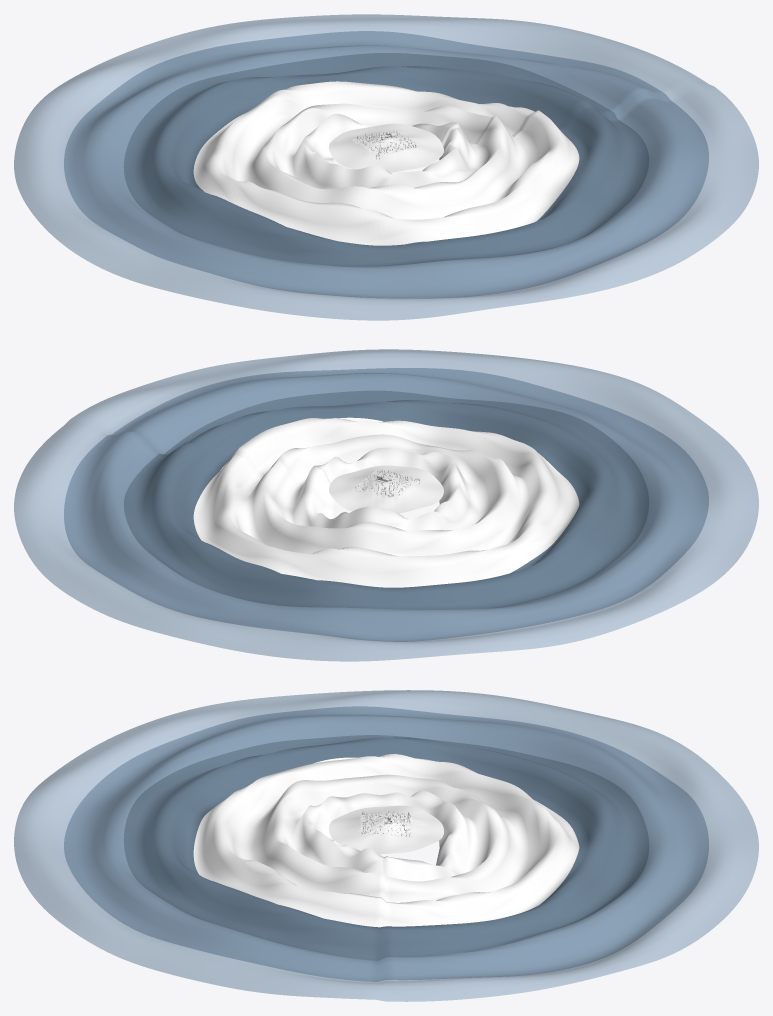
Rendered from dot-facility-web-v1.glb.
3 renders of one model, top to bottom at view 1: azimuth 30°, elevation 25°; view 2: azimuth 150°, elevation 25°; view 3: azimuth 270°, elevation 25°, orthographic.
Parts seen in each view (by area): view 1: DOT_ContinuousMountainWorld, DOT_360_Transition, DOT_Terrain; view 2: DOT_ContinuousMountainWorld, DOT_360_Transition, DOT_Terrain; view 3: DOT_ContinuousMountainWorld, DOT_360_Transition, DOT_Terrain.
Boxes of the visible parts, x1,y1,x2,y2 form: DOT_ContinuousMountainWorld: (14, 14, 758, 320); DOT_360_Transition: (329, 123, 443, 172); DOT_Terrain: (351, 131, 421, 158); DOT_ContinuousMountainWorld: (14, 349, 758, 661); DOT_360_Transition: (329, 465, 443, 513); DOT_Terrain: (351, 470, 421, 500); DOT_ContinuousMountainWorld: (14, 690, 758, 1001); DOT_360_Transition: (329, 805, 443, 854); DOT_Terrain: (360, 812, 412, 837).
Bounding box in the file's own units: 3300 × 239 × 3300.
